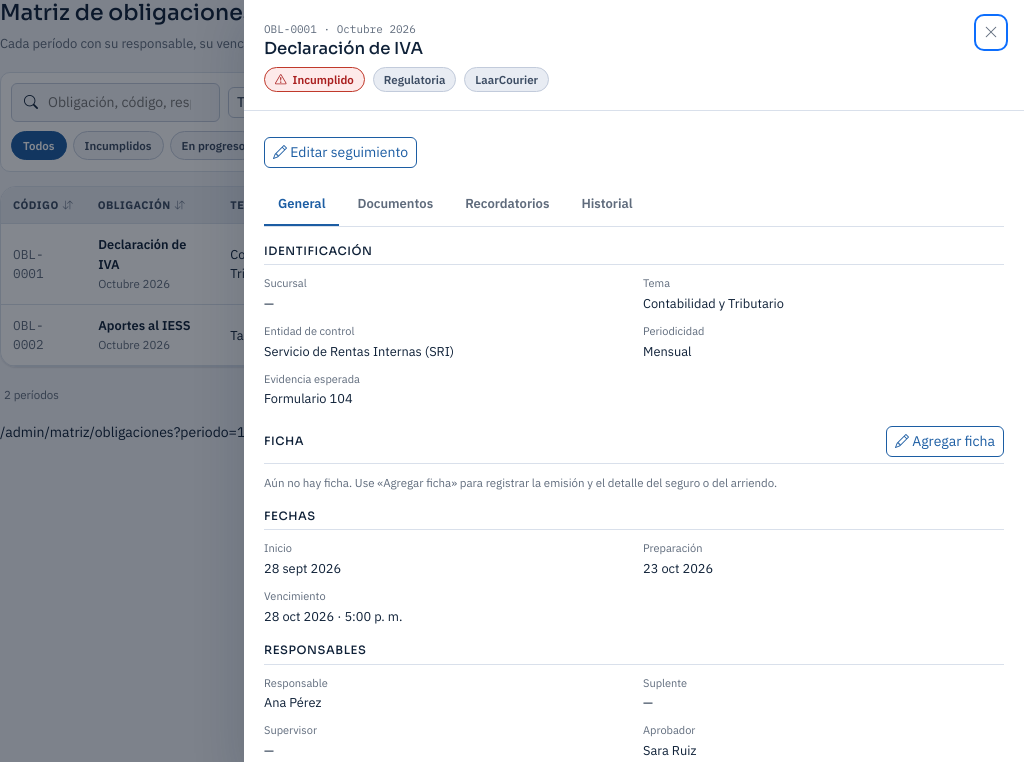
El detalle del período (§15.4) › el historial muestra quién cambió qué, con el valor anterior
The image size is (1024, 762).
What coordinates should you click on to do the following:
click the tab "Historial"
I would click on:
 (607, 205)
Its box is [567, 184, 647, 226].
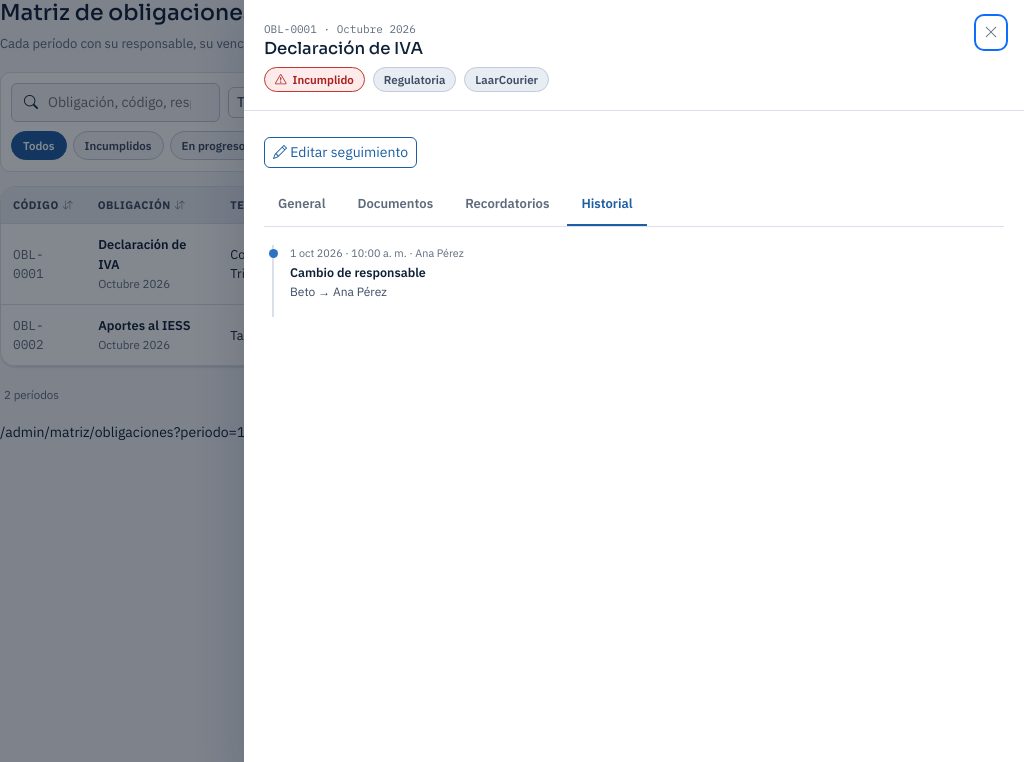
Now the text "Cambio de responsable" is shown, box [290, 264, 426, 280]
Now the text "Beto → Ana Pérez" is shown, box [290, 284, 387, 300]
